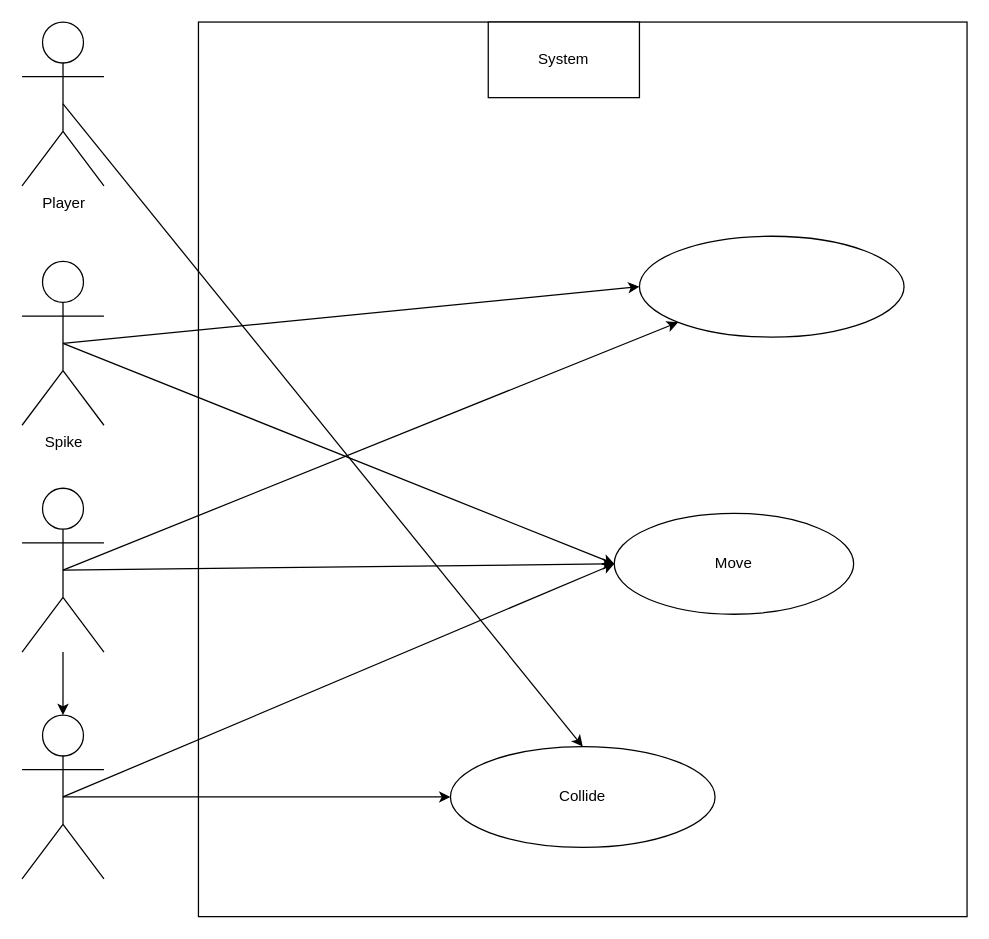
Image size: 989x939. Some labels were removed from this diagram. The box of each missing label's shape, as (x1, y1, x2, y2) in pixels:
Fire ball: (21, 487, 104, 652)
Game Over: (638, 235, 904, 337)
Ground: (21, 714, 104, 879)
